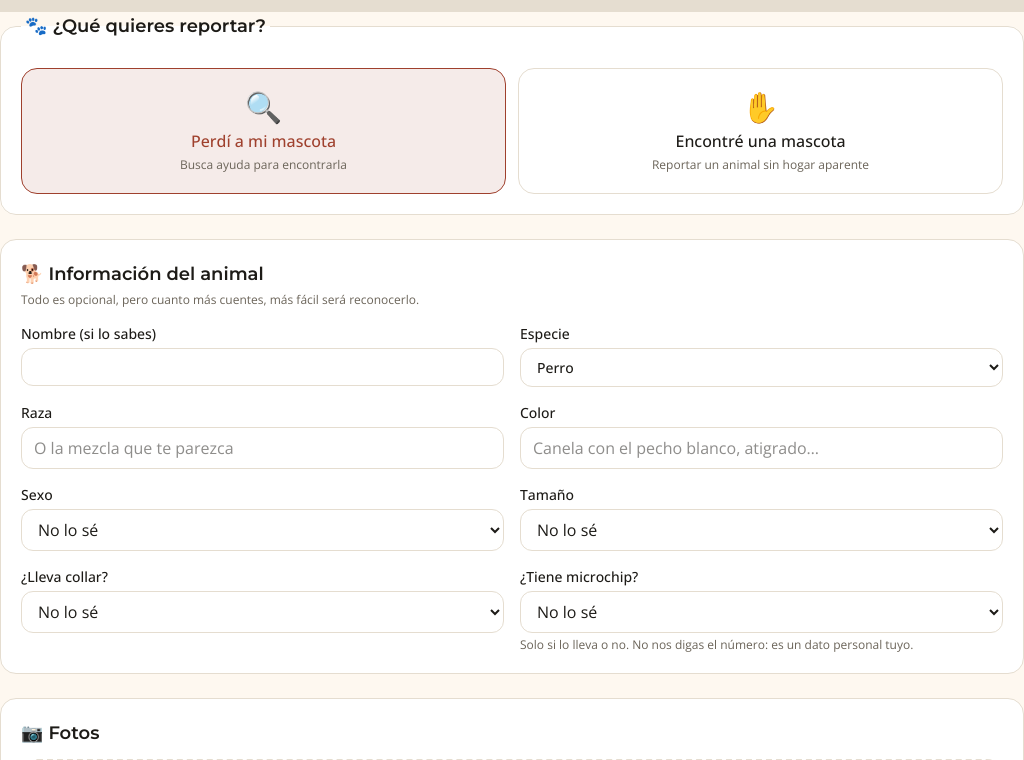
Scenario: NuevoAvisoForm › las tarjetas de tipo siguen siendo radios accesibles
Expected: the radio button labelled "Perdí a mi mascota" is checked, [21,68,506,194]
Step 1. Click the radio button labelled "Encontré una mascota" → (760, 131), box [518,68,1003,194]
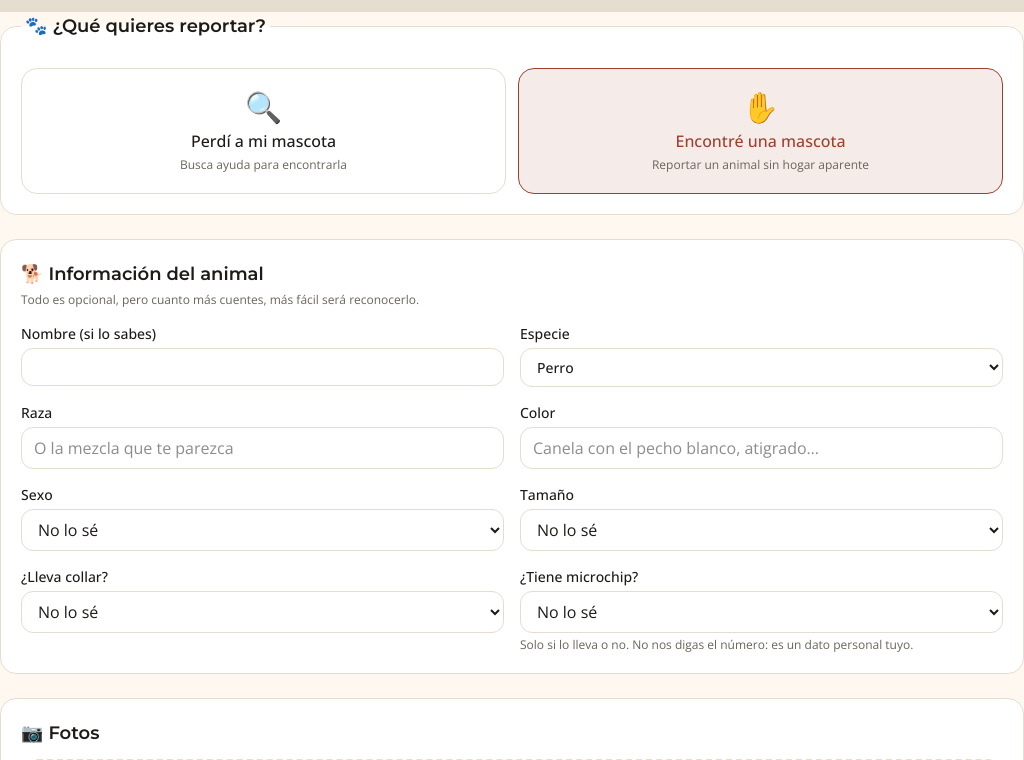
Now the radio button labelled "Encontré una mascota" is checked, box [518,68,1003,194]
Now the radio button labelled "Perdí a mi mascota" is not checked, box [21,68,506,194]
